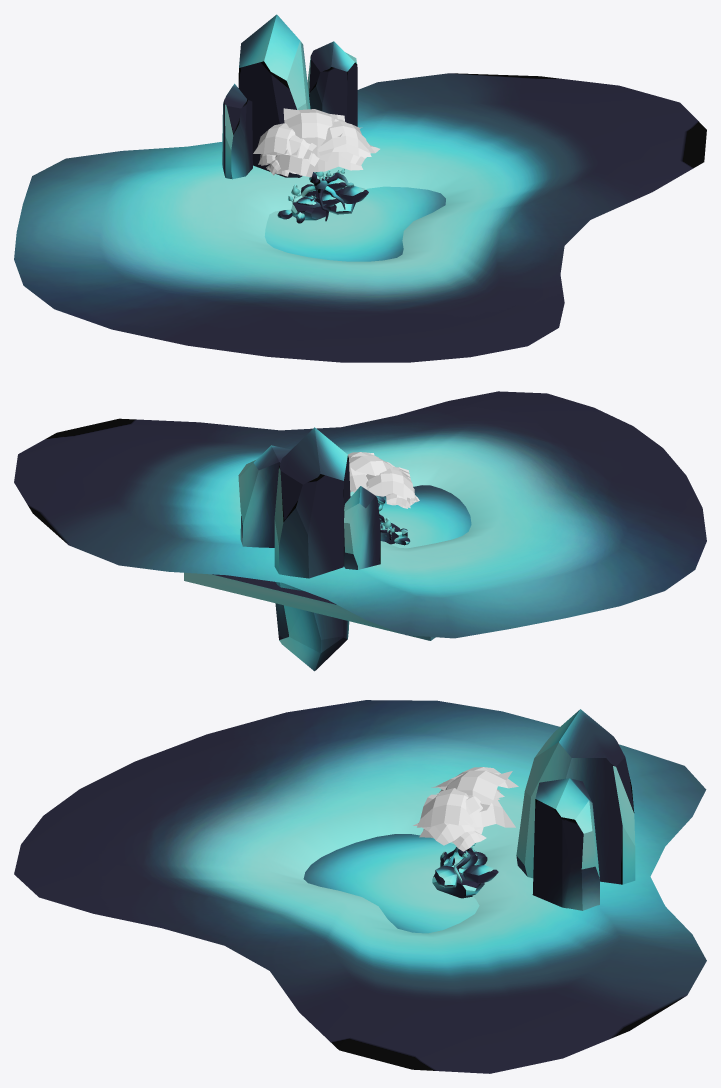
The picture shows the model from 3 angles, top to bottom: view 1: azimuth 30°, elevation 25°; view 2: azimuth 150°, elevation 25°; view 3: azimuth 270°, elevation 25°; orthographic projection. The views are drawn at different scales.
Parts seen in each view (by area): view 1: lake; view 2: lake; view 3: lake.
Part boxes in pixels (x1,y1,x2,y2): lake: (14, 14, 706, 362); lake: (14, 391, 706, 671); lake: (14, 700, 706, 1073).
Size of the model in its own units: 53222 by 19843 by 41704.
Materials: 9 (7 with a texture image).
